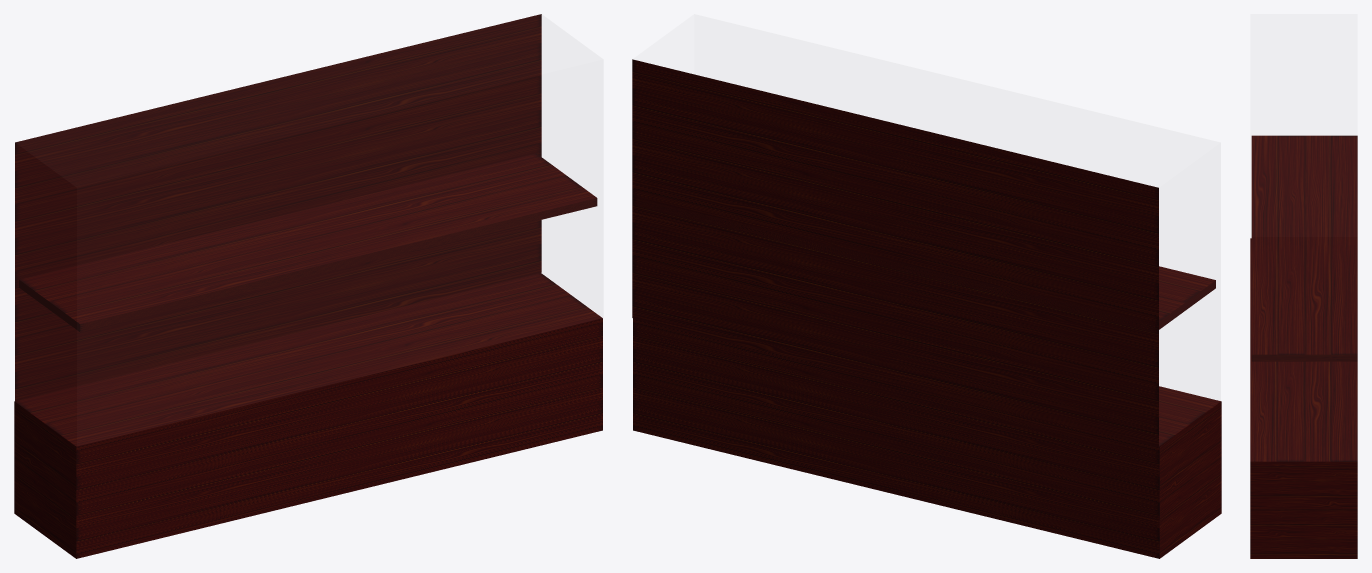
Rendered from DisplayedCase.fbx.
The picture shows the model from 3 angles, left to right: view 1: azimuth 30°, elevation 25°; view 2: azimuth 150°, elevation 25°; view 3: azimuth 270°, elevation 25°; orthographic projection. The views are drawn at different scales.
Parts seen in each view (by area): view 1: displayed, bottomdisplayed, shelf; view 2: displayed, bottomdisplayed, shelf; view 3: shelf, bottomdisplayed.
Part boxes in pixels (x1,y1,x2,y2): displayed: (15, 14, 541, 400); bottomdisplayed: (14, 273, 602, 558); shelf: (19, 153, 597, 332); displayed: (632, 59, 1158, 446); bottomdisplayed: (633, 318, 1221, 558); shelf: (637, 199, 1215, 332); shelf: (1251, 135, 1357, 361); bottomdisplayed: (1250, 238, 1357, 558).
Bounding box in the file's own units: 4.92 × 3.31 × 1.
